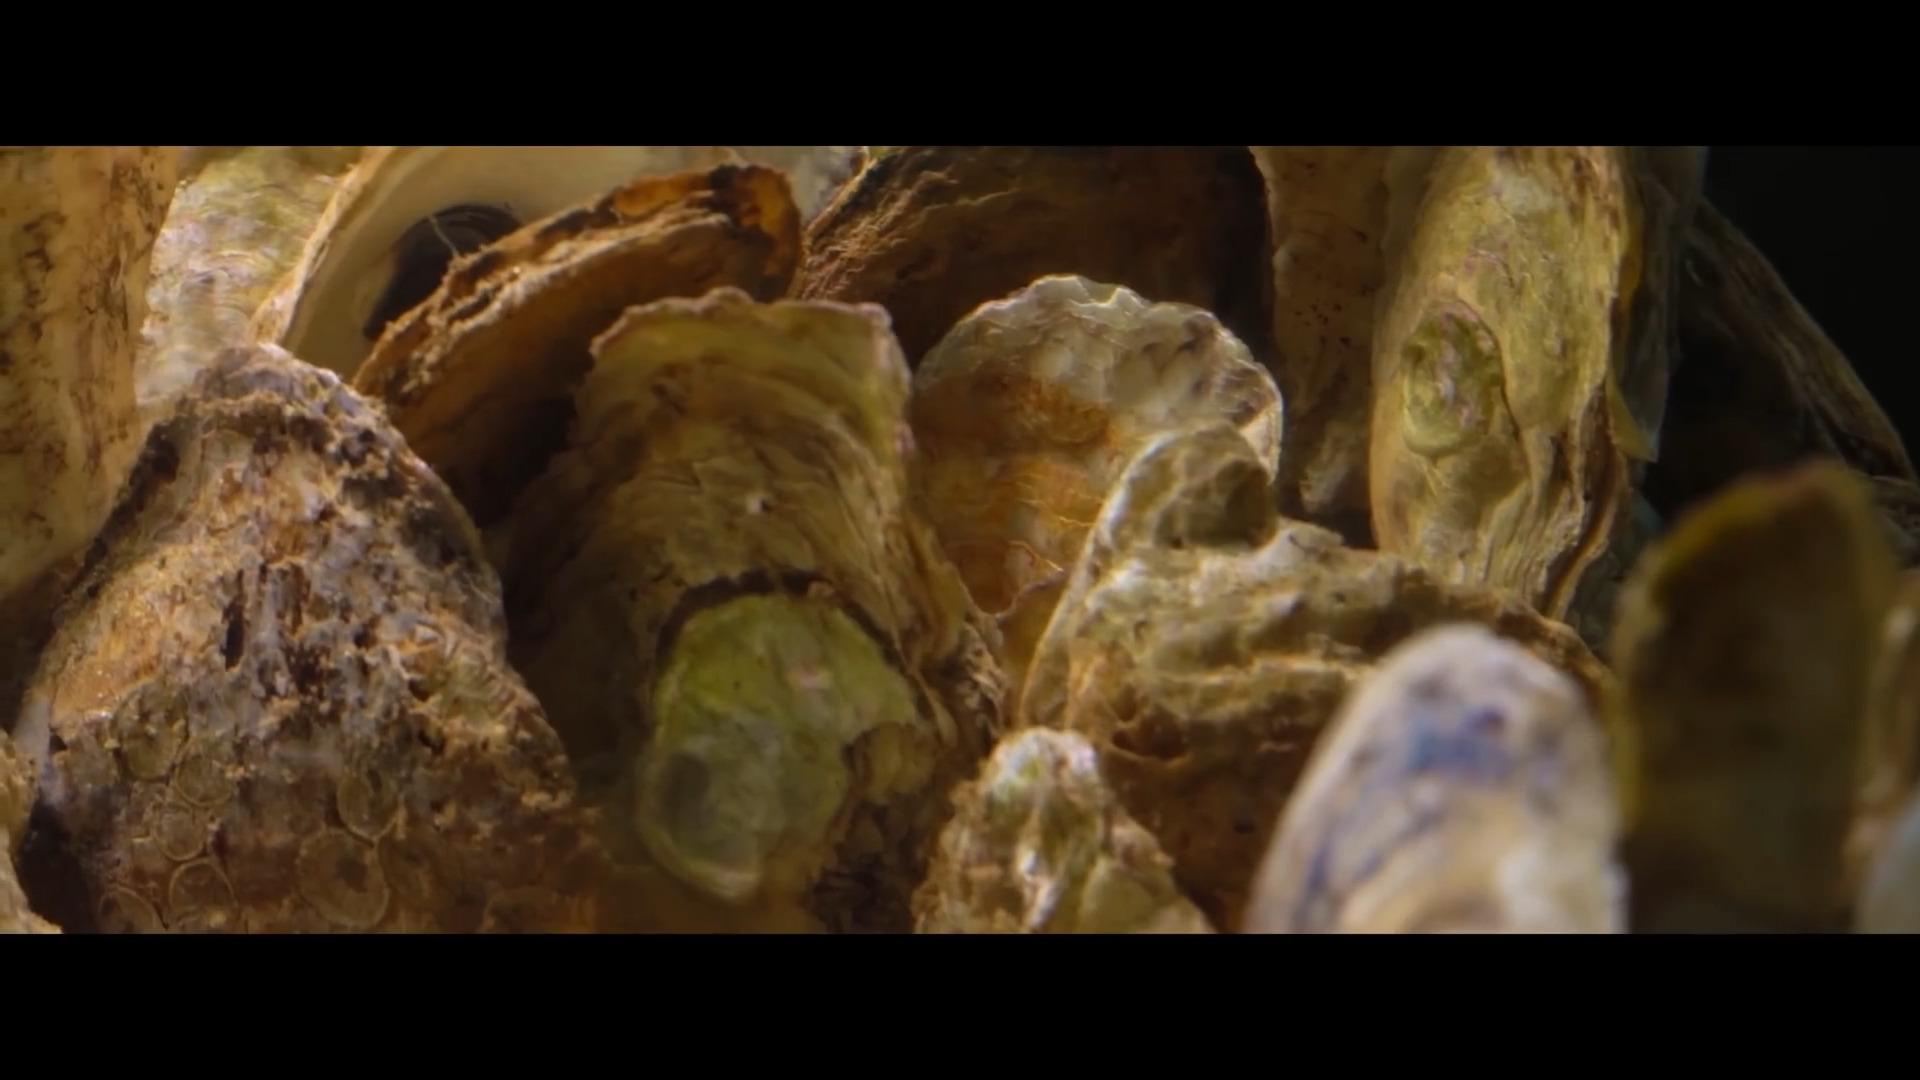Oyster: (0, 343, 595, 932), (497, 287, 1002, 930), (1034, 502, 1606, 932), (352, 161, 799, 518), (897, 272, 1282, 680), (1607, 465, 1908, 924), (1360, 141, 1644, 611), (795, 146, 1266, 384), (1650, 170, 1920, 567), (0, 146, 189, 658), (906, 724, 1228, 927), (142, 149, 363, 400)
